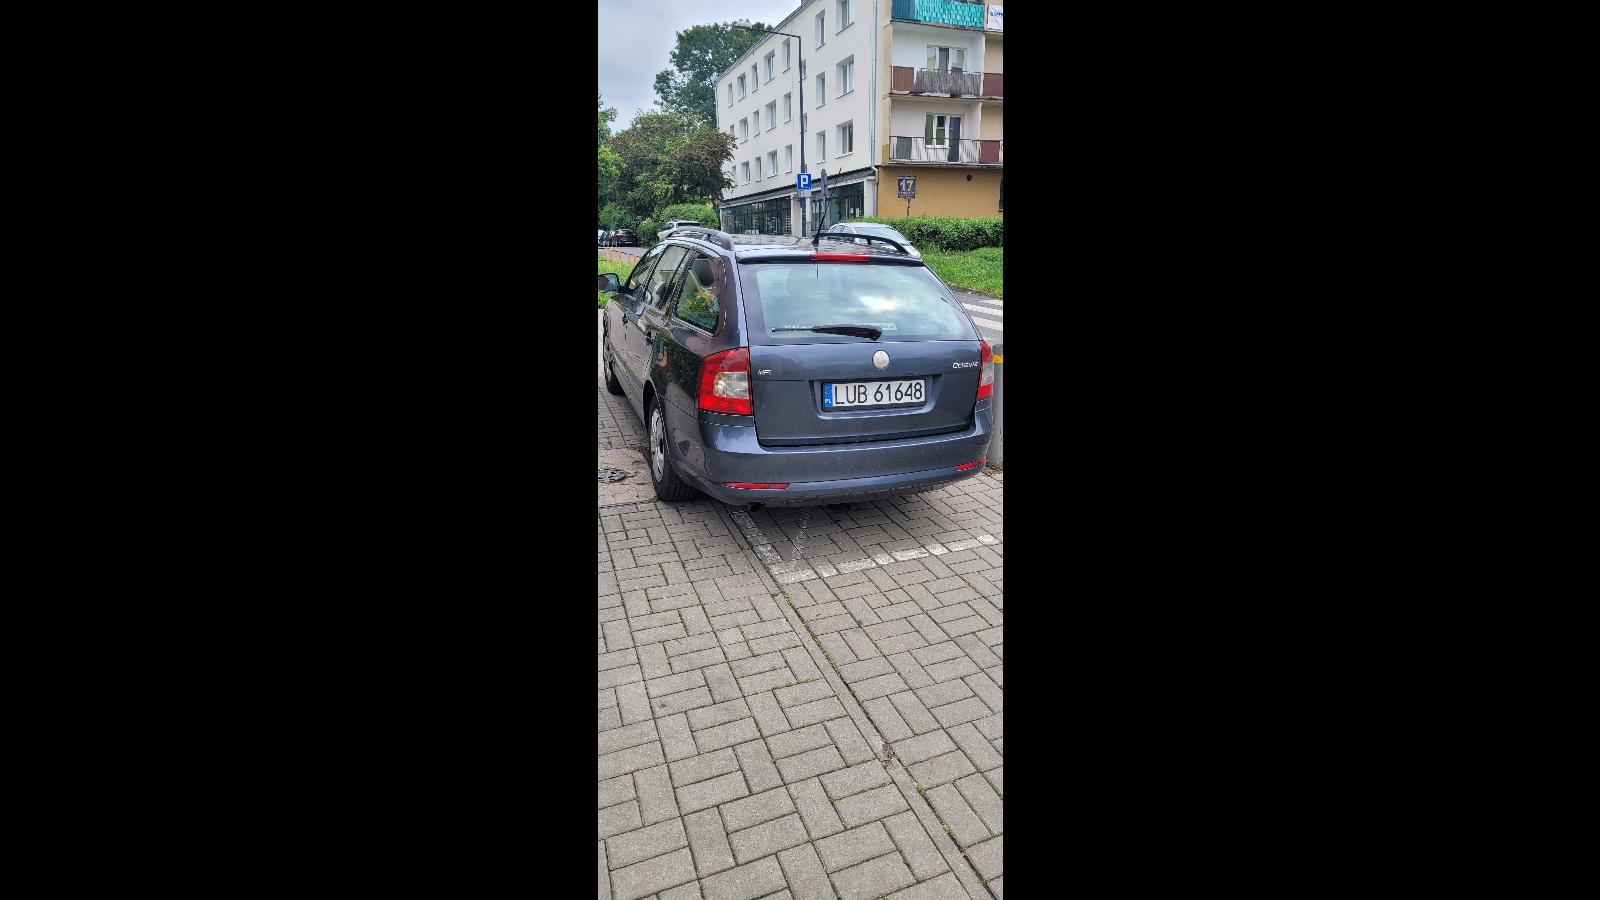plates: (821, 378, 927, 412)
